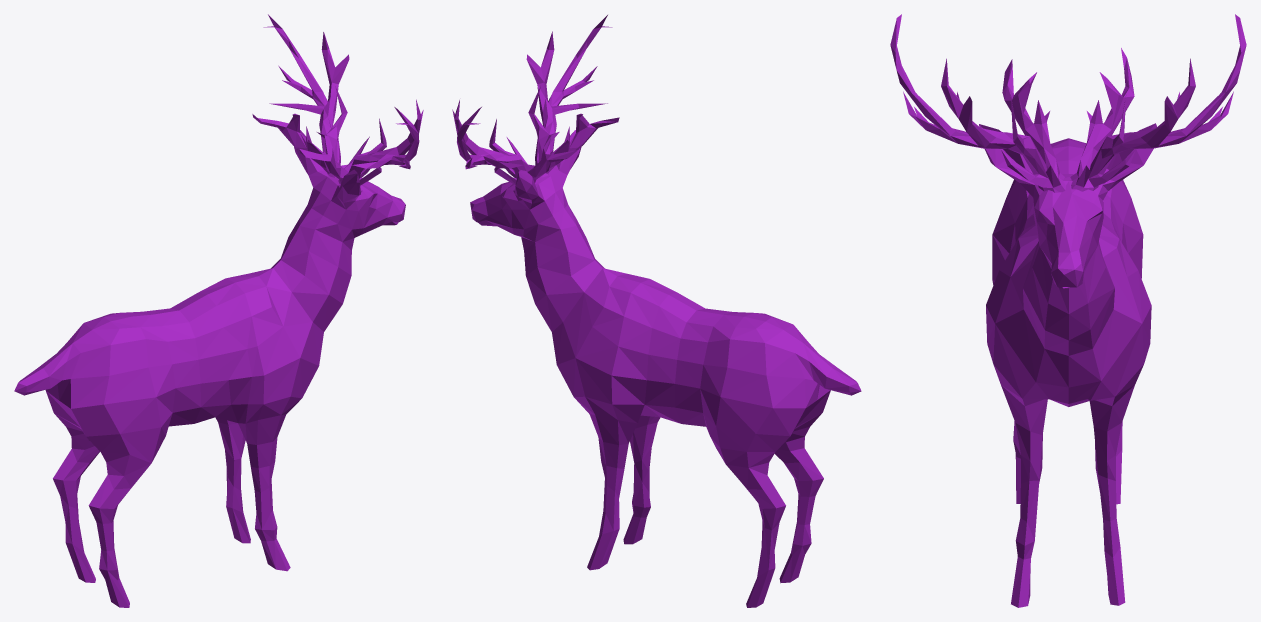
The model's file is deer.obj.
3 views of the same model, side by side, from view 1: azimuth 30°, elevation 25°; view 2: azimuth 150°, elevation 25°; view 3: azimuth 270°, elevation 25° (orthographic). The views are drawn at different scales.
Visible parts, largest first — view 1: grp1 grp1_2; view 2: grp1 grp1_2; view 3: grp1 grp1_2.
Part boxes in pixels (box(x1,y1,x2,y2)): grp1 grp1_2: box(14, 14, 423, 607); grp1 grp1_2: box(452, 15, 861, 607); grp1 grp1_2: box(890, 14, 1246, 607).
Size of the model in its own units: 1230 by 1447 by 738.
